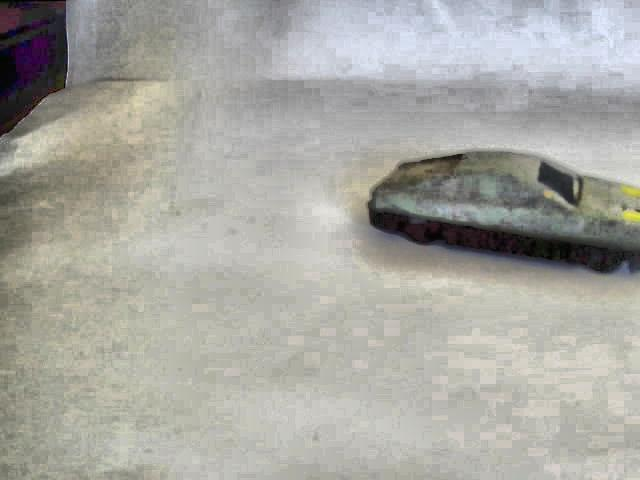normal_car: (362, 145, 640, 276)
